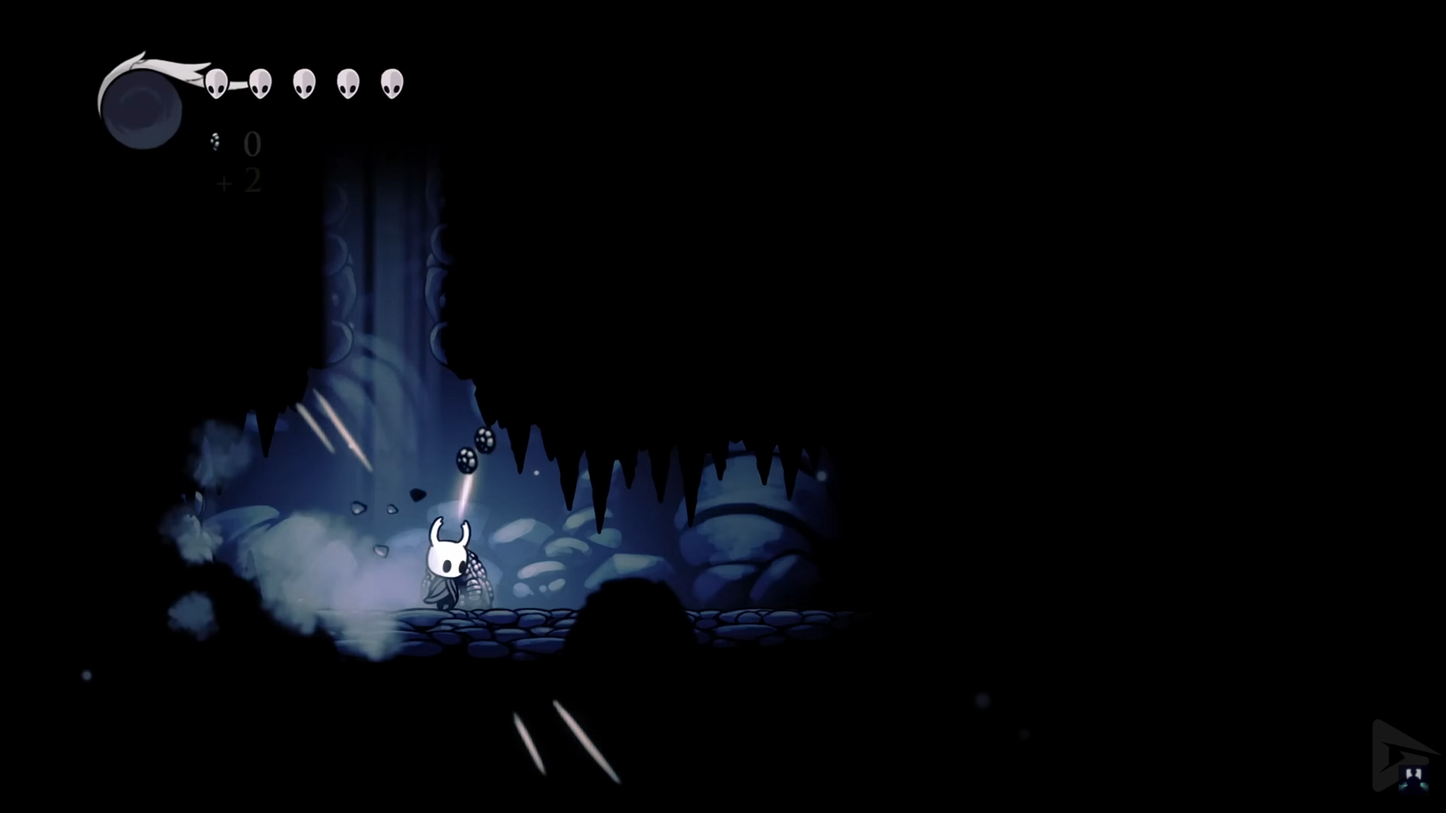HK: (421, 514, 474, 614)
